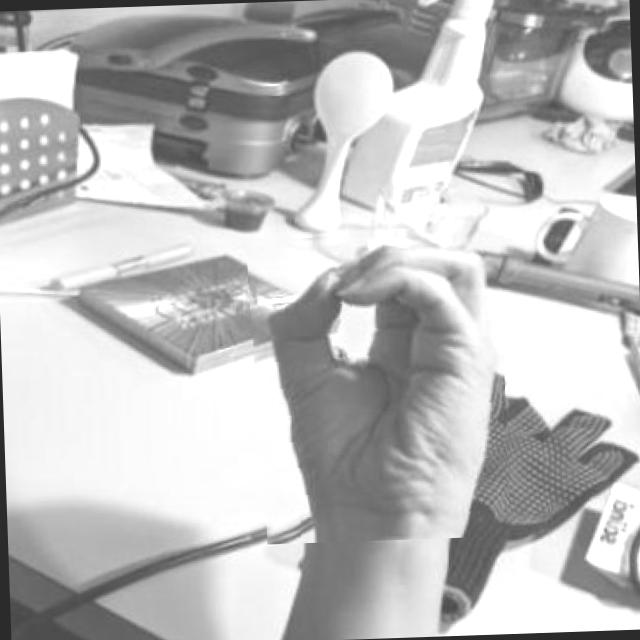O: (245, 225, 510, 544)
